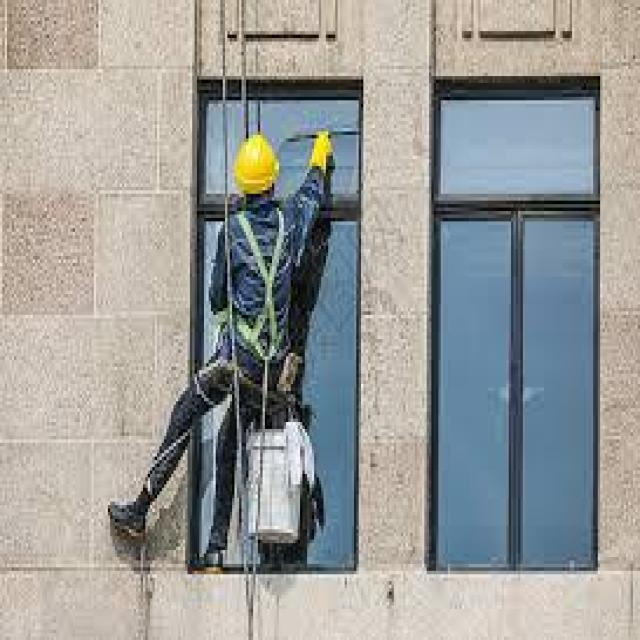Arnes_seguridad: (213, 197, 291, 363)
